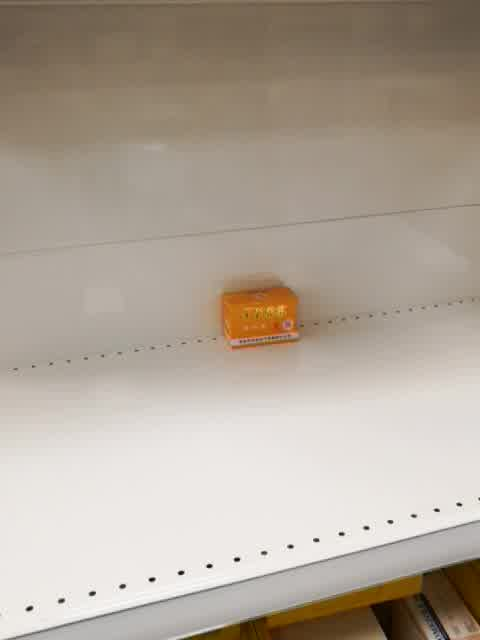jasminetea: (219, 286, 301, 348)
